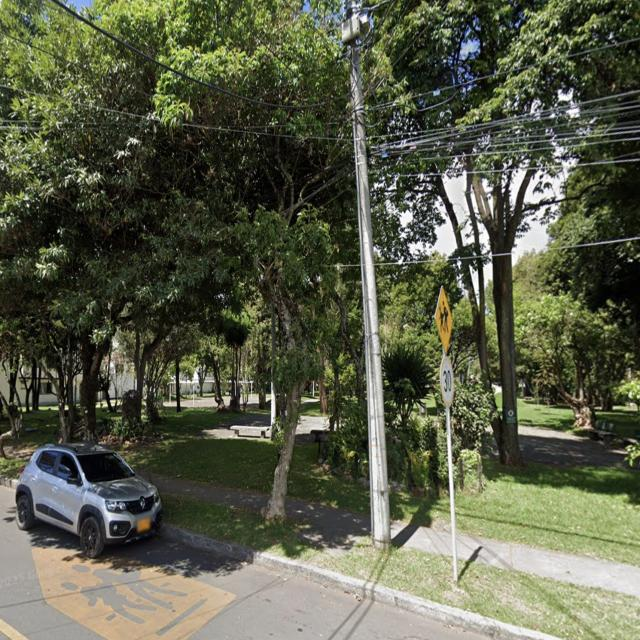Poste: (342, 0, 390, 549)
